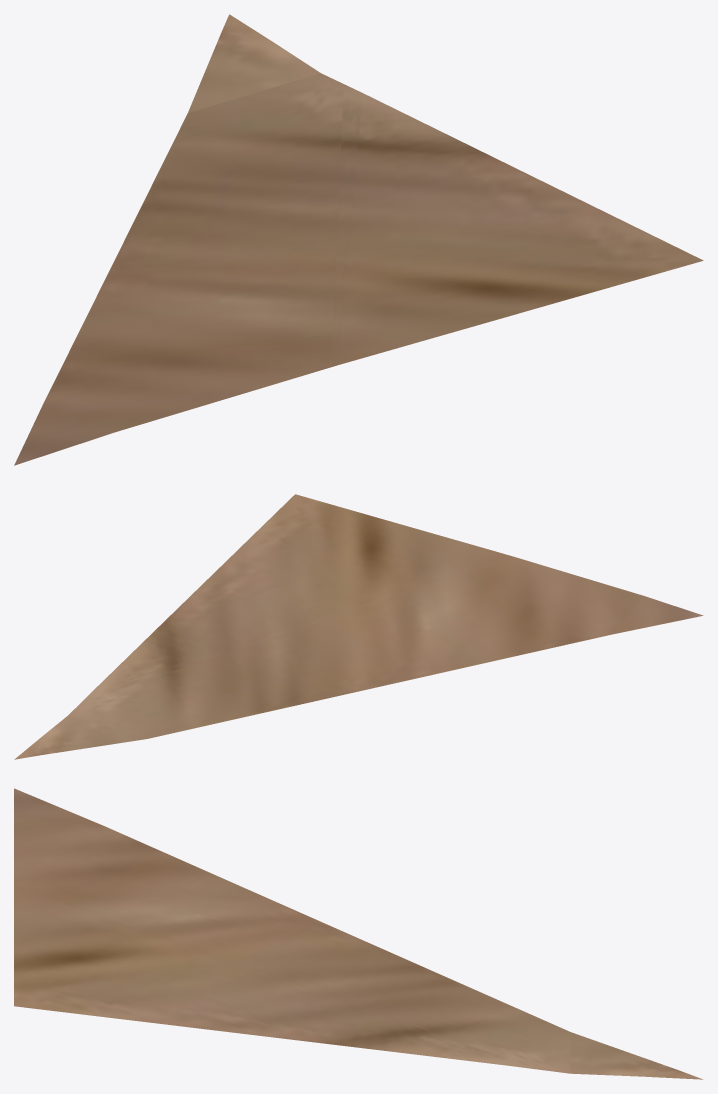
3 renders of one model, top to bottom at view 1: azimuth 30°, elevation 25°; view 2: azimuth 150°, elevation 25°; view 3: azimuth 270°, elevation 25°, orthographic. The views are drawn at different scales.
Bounding box in the file's own units: 0.3884 × 0.0543 × 0.4628.
1 material, 1 textured.
